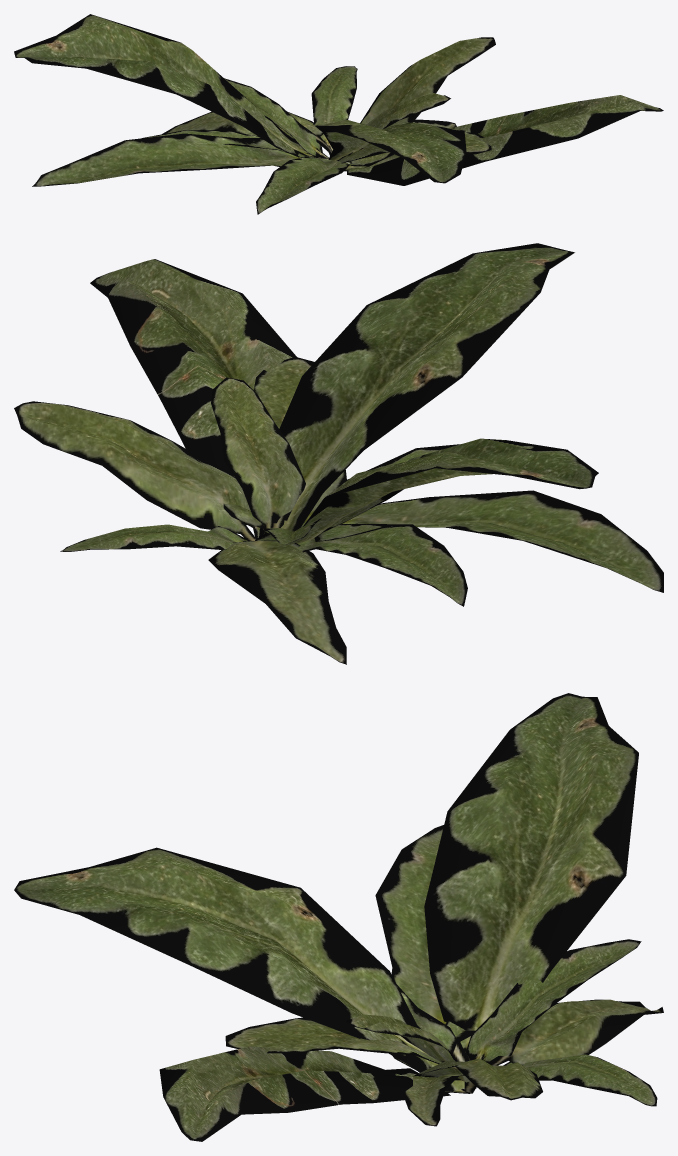
The model's file is flower_gazania_2.gltf.
3 views of the same model, one above another, from view 1: azimuth 30°, elevation 25°; view 2: azimuth 150°, elevation 25°; view 3: azimuth 270°, elevation 25° (orthographic). The views are drawn at different scales.
Parts seen in each view (by area): view 1: flower_gazania_c_LOD0; view 2: flower_gazania_c_LOD0; view 3: flower_gazania_c_LOD0.
Boxes of the visible parts, x1,y1,x2,y2 form: flower_gazania_c_LOD0: (14,14,663,214); flower_gazania_c_LOD0: (14,243,663,664); flower_gazania_c_LOD0: (14,693,663,1141).
Size of the model in its own units: 0.2409 by 0.0685 by 0.186.
1 material, 1 textured.
